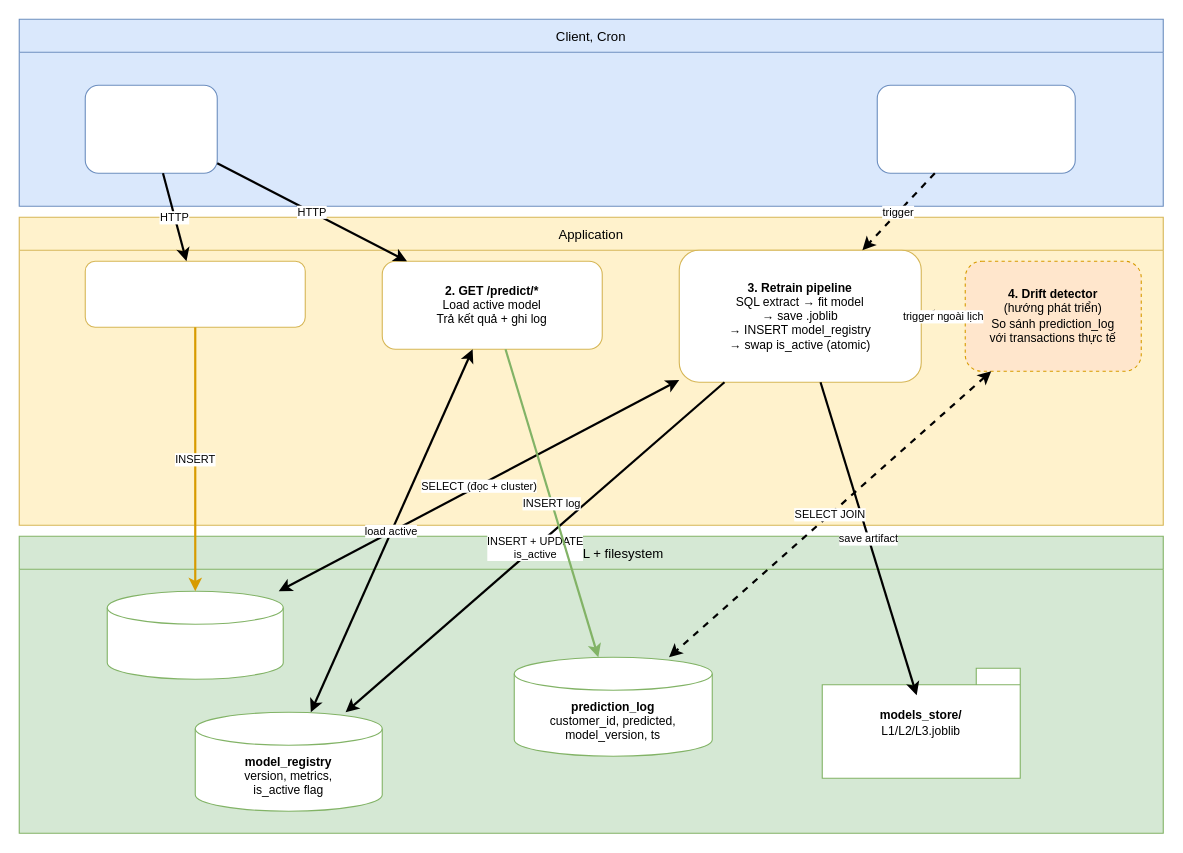
The diagram is 1183 pixels wide and 853 high, and some of its shapes have lost their labels. The centre of each missing label's shape, as x and y in pixels:
"1. POST /ingest/transactions Validate, batch INSERT" belongs at (x=194, y=293).
"APScheduler cron L1+L2: Sun 02–03h L3: daily 01h" belongs at (x=975, y=128).
"Client (dashboard, curl)" belongs at (x=150, y=128).
"transactions (append-only)" belongs at (x=194, y=634).
